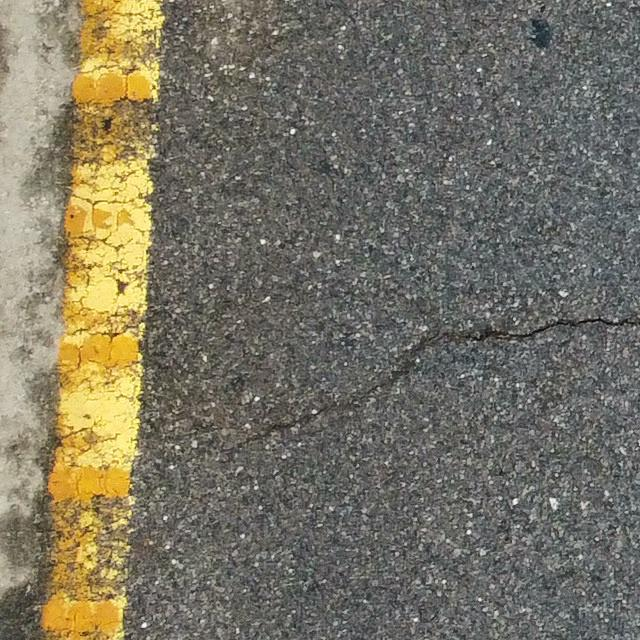TransverseCrack: (228, 317, 640, 448)
